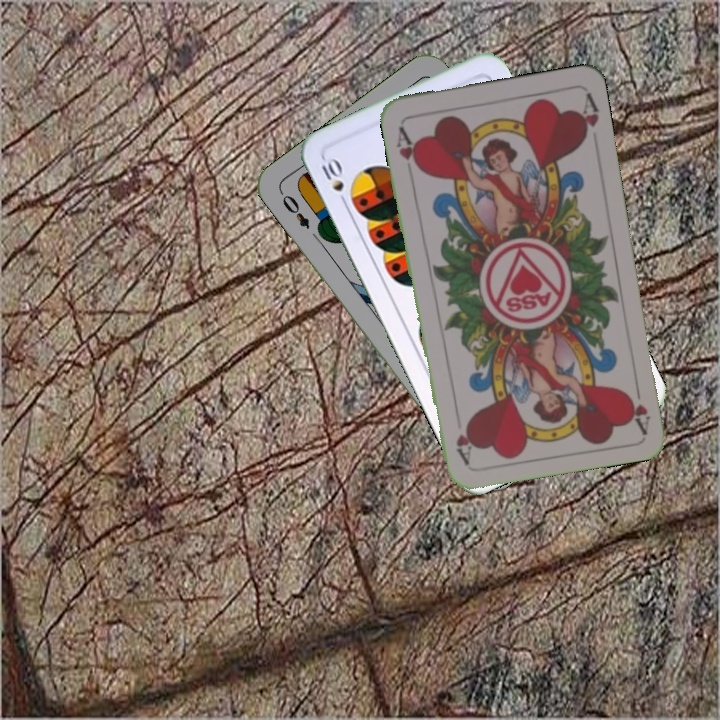EO: (275, 187, 313, 232)
HA: (622, 375, 653, 434), (392, 122, 423, 175)
S10: (317, 154, 351, 210)
